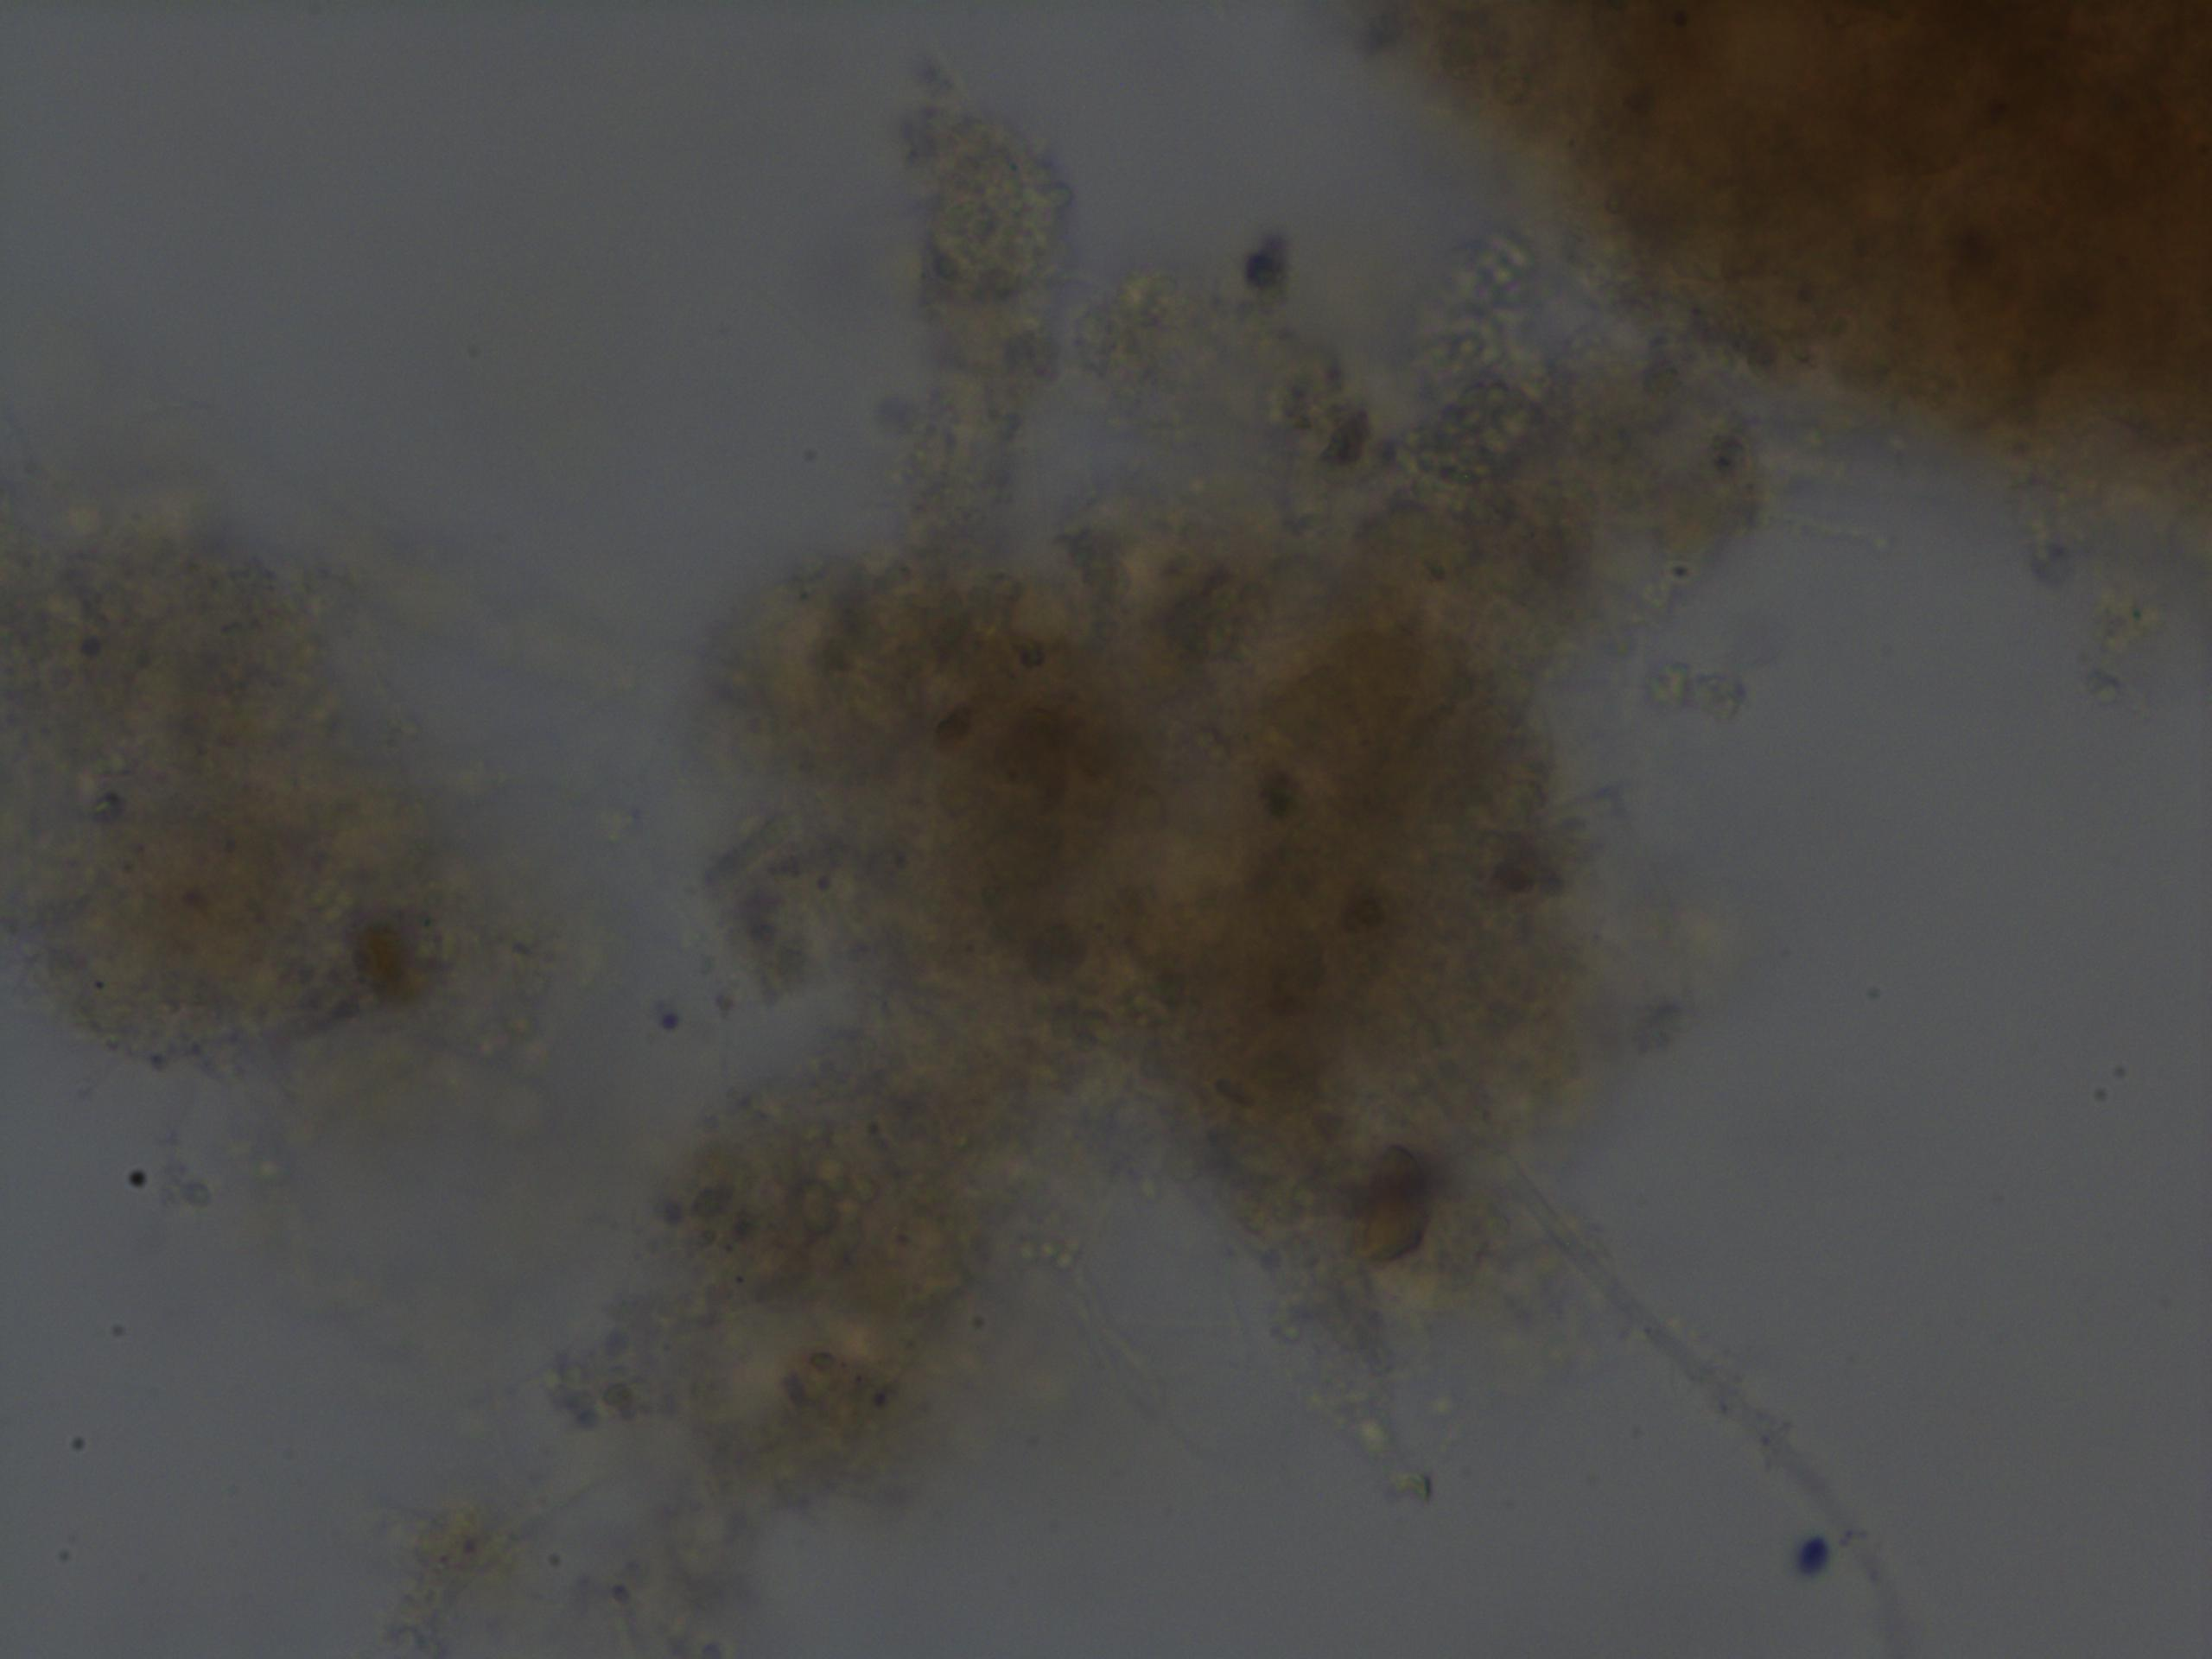filament: (1423, 1098, 1933, 1659)
